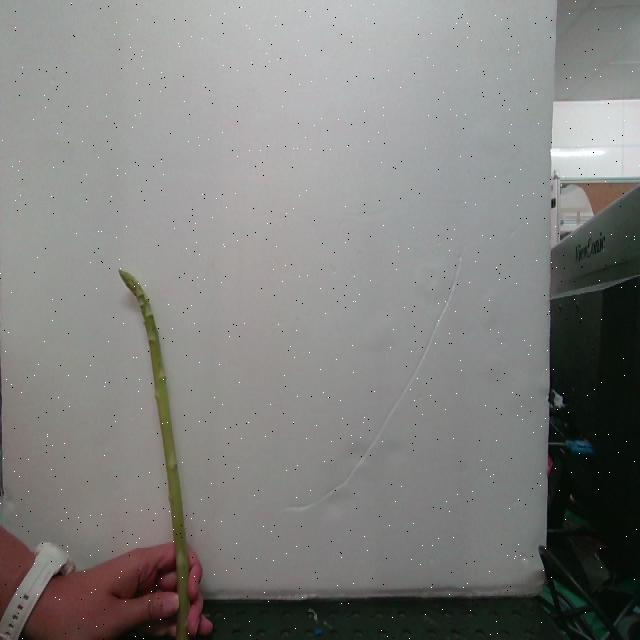aspargus: (116, 271, 196, 640)
